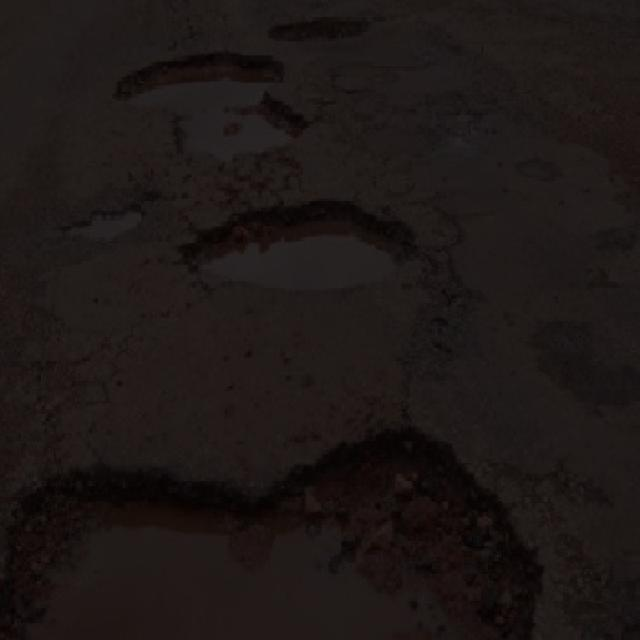Pothole: (0, 415, 550, 639), (102, 48, 314, 170), (174, 195, 422, 289), (66, 201, 142, 246), (269, 12, 373, 40)
